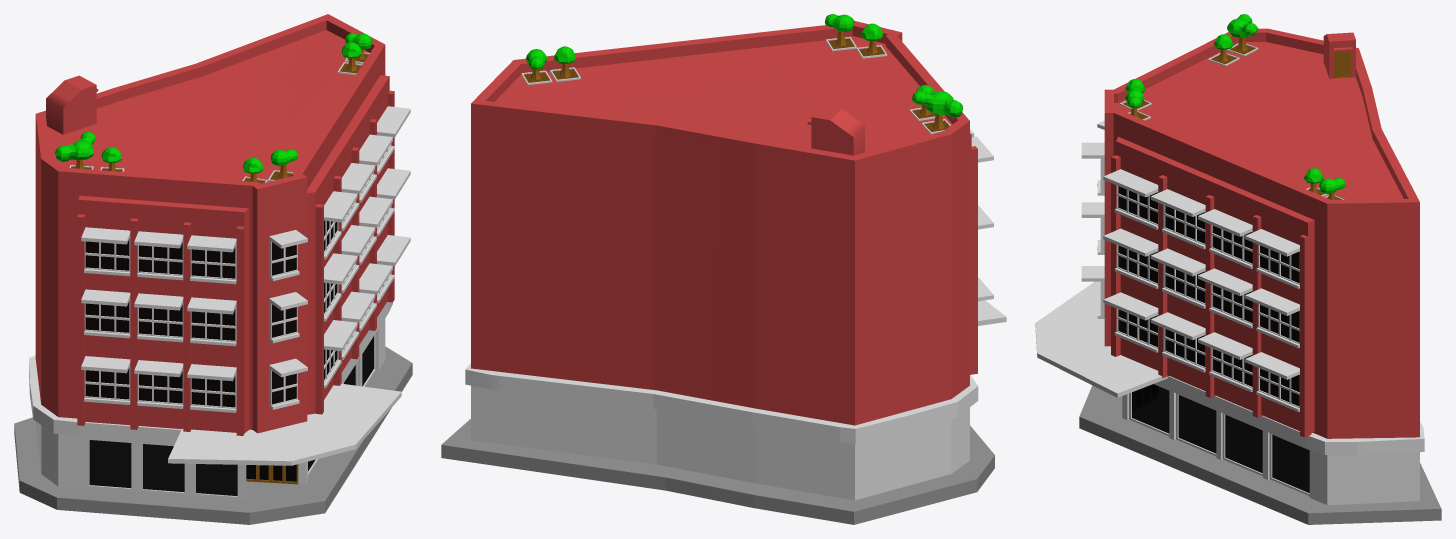
File: building.fbx
3 renders of one model, left to right at view 1: azimuth 30°, elevation 25°; view 2: azimuth 150°, elevation 25°; view 3: azimuth 270°, elevation 25°, orthographic. The views are drawn at different scales.
Parts seen in each view (by area): view 1: Red_building_main, Building_Base, R_window_line (×2), F_roof, window_23, window_20, window_22, window_17, window_19, window_16, window_24, window_21 (+18 smaller); view 2: Red_building_main, Building_Base, R_window_line, polySurface30; view 3: Red_building_main, Building_Base, R_window_line, F_roof, window_4, window_6, window_5, window_13, window_15, window_14, window_9, window_7 (+8 smaller).
Boxes of the visible parts, left/top/right/bottom form: Red_building_main: left=29, top=14, right=392, bottom=500; Building_Base: left=14, top=346, right=412, bottom=524; R_window_line (×2): left=77, top=90, right=394, bottom=435; F_roof: left=168, top=383, right=401, bottom=465; window_23: left=81, top=289, right=130, bottom=338; window_20: left=134, top=293, right=183, bottom=342; window_22: left=81, top=227, right=130, bottom=276; window_17: left=187, top=297, right=236, bottom=346; window_19: left=134, top=231, right=183, bottom=280; window_16: left=187, top=235, right=236, bottom=284; window_24: left=81, top=356, right=130, bottom=404; window_21: left=134, top=360, right=183, bottom=408; Red_building_main: left=465, top=20, right=978, bottom=500; Building_Base: left=441, top=419, right=994, bottom=524; R_window_line: left=970, top=146, right=977, bottom=374; polySurface30: left=912, top=91, right=962, bottom=129; Red_building_main: left=1104, top=28, right=1424, bottom=505; Building_Base: left=1079, top=385, right=1441, bottom=524; R_window_line: left=1111, top=155, right=1311, bottom=437; F_roof: left=1035, top=281, right=1167, bottom=397; window_4: left=1103, top=169, right=1158, bottom=229; window_6: left=1103, top=292, right=1158, bottom=352; window_5: left=1103, top=228, right=1158, bottom=288; window_13: left=1245, top=229, right=1299, bottom=288; window_15: left=1245, top=352, right=1299, bottom=411; window_14: left=1245, top=288, right=1299, bottom=348; window_9: left=1150, top=312, right=1205, bottom=372; window_7: left=1150, top=189, right=1205, bottom=249.
Size of the model in its own units: 48.96 by 40.19 by 43.36.
